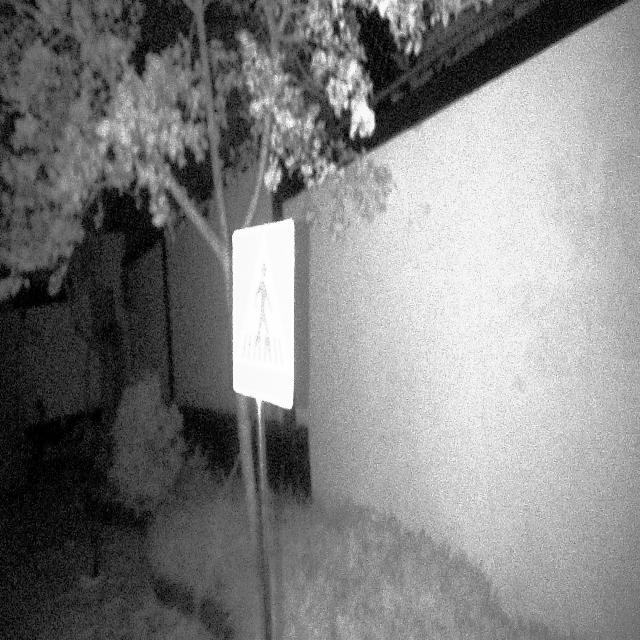Sign: (229, 216, 297, 413)
